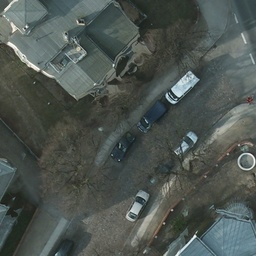car: (134, 99, 168, 130), (166, 71, 199, 102), (172, 131, 198, 161), (111, 130, 136, 161), (126, 190, 148, 221), (150, 156, 172, 185)
